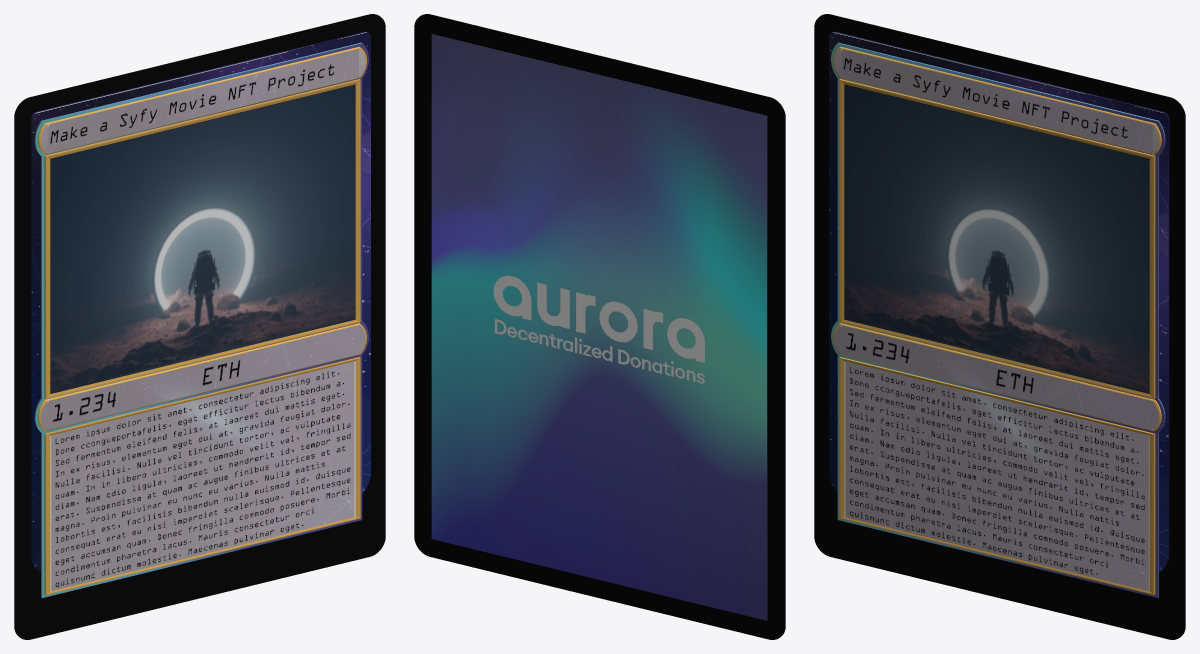
The model's file is receipt.gltf.
3 renders of one model, left to right at view 1: azimuth 30°, elevation 25°; view 2: azimuth 150°, elevation 25°; view 3: azimuth 330°, elevation 25°, orthographic.
Parts seen in each view (by area): view 1: Cube.102, Cube.101, Cube.108, Cube.105, Cube.104, Cube.103, Cube.110, Cube.109, Cube.112, Cube.111, Cube.107; view 2: Cube.106, Cube.108; view 3: Cube.102, Cube.101, Cube.108, Cube.105, Cube.104, Cube.103, Cube.110, Cube.109, Cube.112, Cube.107, Cube.111.
Part boxes in pixels (x1,y1,x2,y2): Cube.102: (50, 84, 355, 393); Cube.101: (50, 361, 355, 591); Cube.108: (14, 14, 385, 639); Cube.105: (30, 31, 370, 572); Cube.104: (41, 48, 365, 153); Cube.103: (41, 325, 365, 430); Cube.110: (34, 42, 368, 597); Cube.109: (44, 79, 360, 398); Cube.112: (44, 357, 360, 594); Cube.111: (38, 323, 366, 431); Cube.107: (38, 46, 366, 154); Cube.106: (431, 34, 767, 620); Cube.108: (414, 14, 785, 639); Cube.102: (844, 84, 1149, 393); Cube.101: (844, 361, 1149, 591); Cube.108: (814, 14, 1185, 639); Cube.105: (829, 31, 1169, 572); Cube.104: (834, 48, 1158, 153); Cube.103: (834, 325, 1158, 430); Cube.110: (831, 42, 1165, 597); Cube.109: (839, 79, 1155, 398); Cube.112: (839, 357, 1155, 594); Cube.107: (833, 46, 1161, 154); Cube.111: (833, 323, 1161, 431).
Size of the model in its own units: 12.6 by 17.6 by 0.2291.
Materials: 14 (9 with a texture image).
